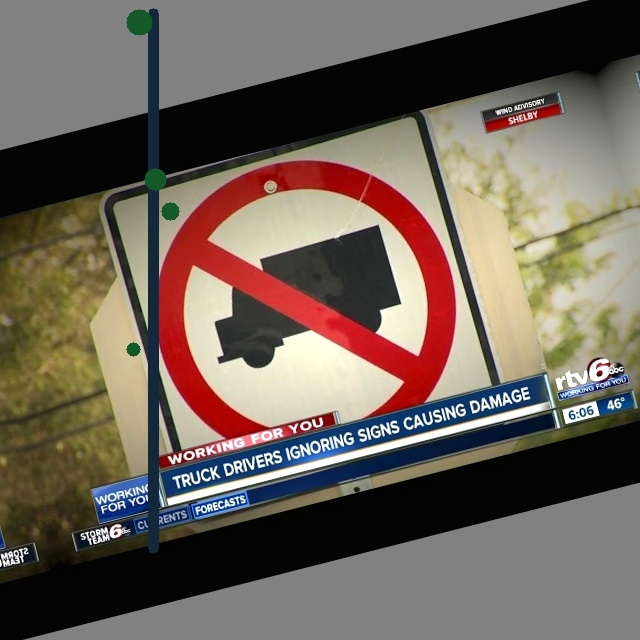Truck_Prohibited: (126, 134, 477, 448)
